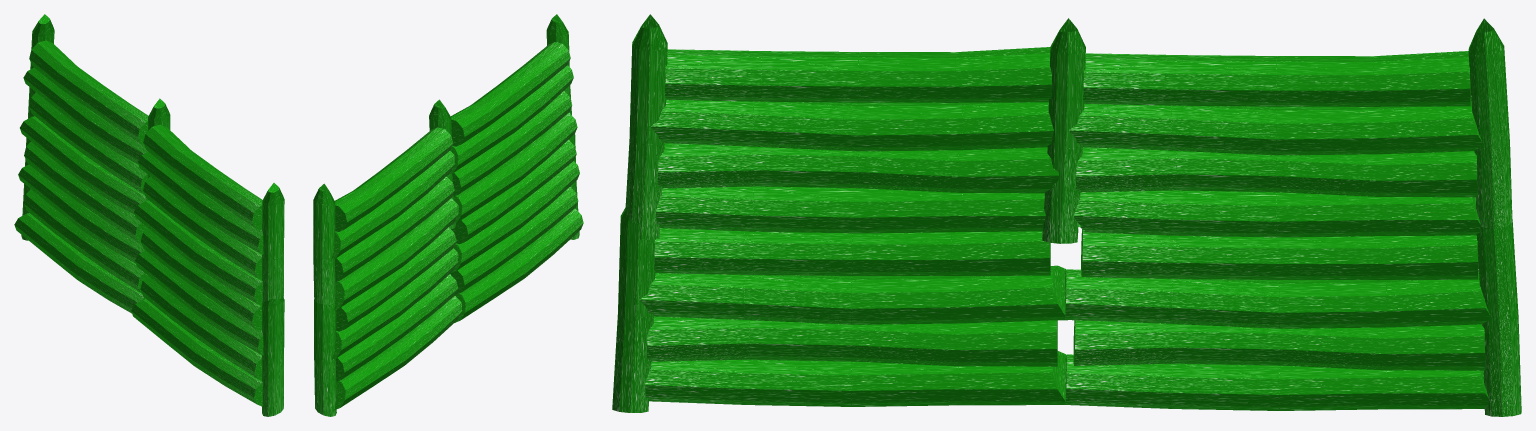
The model's file is Wood.fbx.
The picture shows the model from 3 angles, left to right: view 1: azimuth 30°, elevation 25°; view 2: azimuth 150°, elevation 25°; view 3: azimuth 270°, elevation 25°; orthographic projection. The views are drawn at different scales.
Visible parts, largest first — view 1: pCylinder13; view 2: pCylinder13; view 3: pCylinder13.
Boxes of the visible parts, left/top/right/bottom form: pCylinder13: left=14, top=14, right=284, bottom=416; pCylinder13: left=313, top=14, right=583, bottom=416; pCylinder13: left=612, top=14, right=1521, bottom=416.
Bounding box in the file's own units: 3.1 × 17.76 × 35.83.
